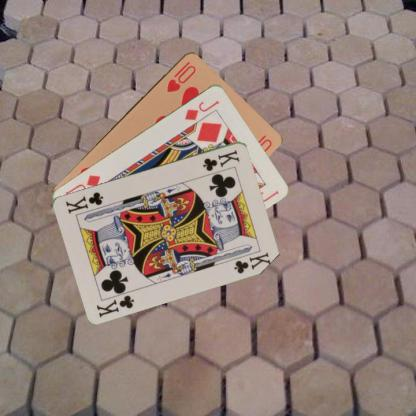10h: (164, 58, 197, 93)
Jd: (182, 97, 221, 121)
Kc: (94, 292, 135, 318), (200, 147, 241, 172)
